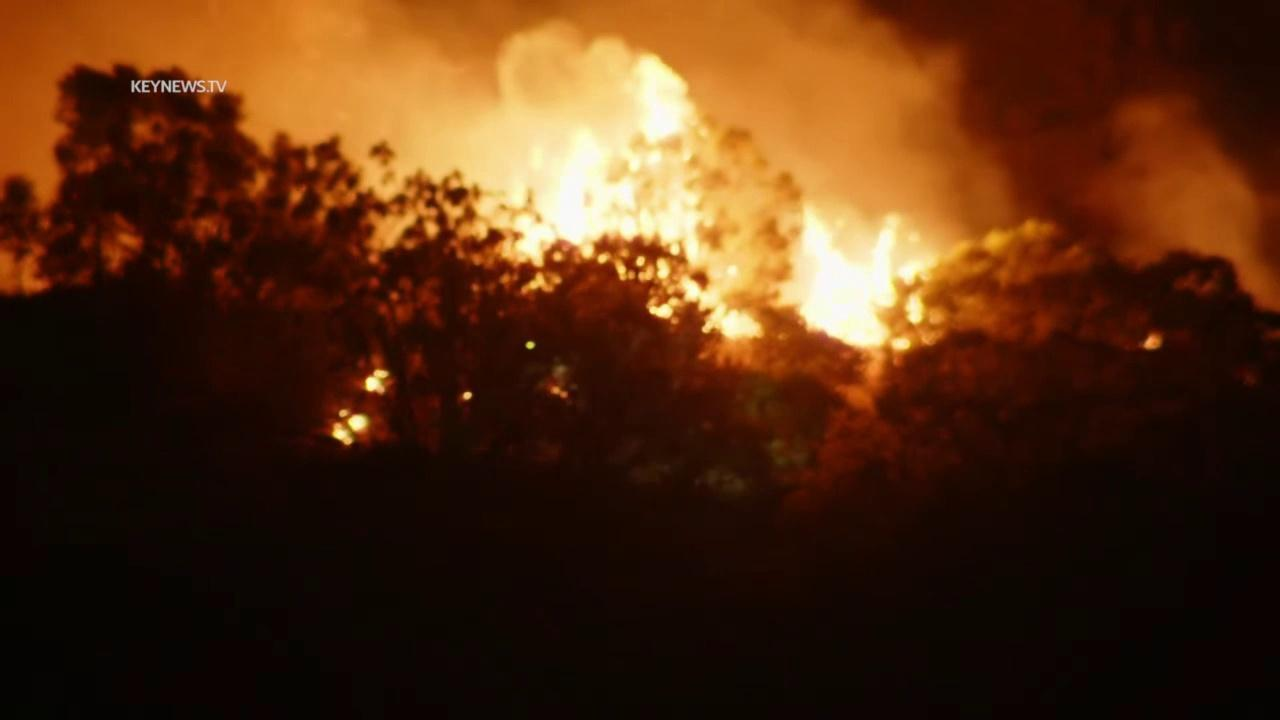fire: (506, 92, 769, 342), (792, 196, 926, 355), (328, 408, 372, 448), (358, 369, 395, 398)
smoke: (0, 0, 1280, 307)
